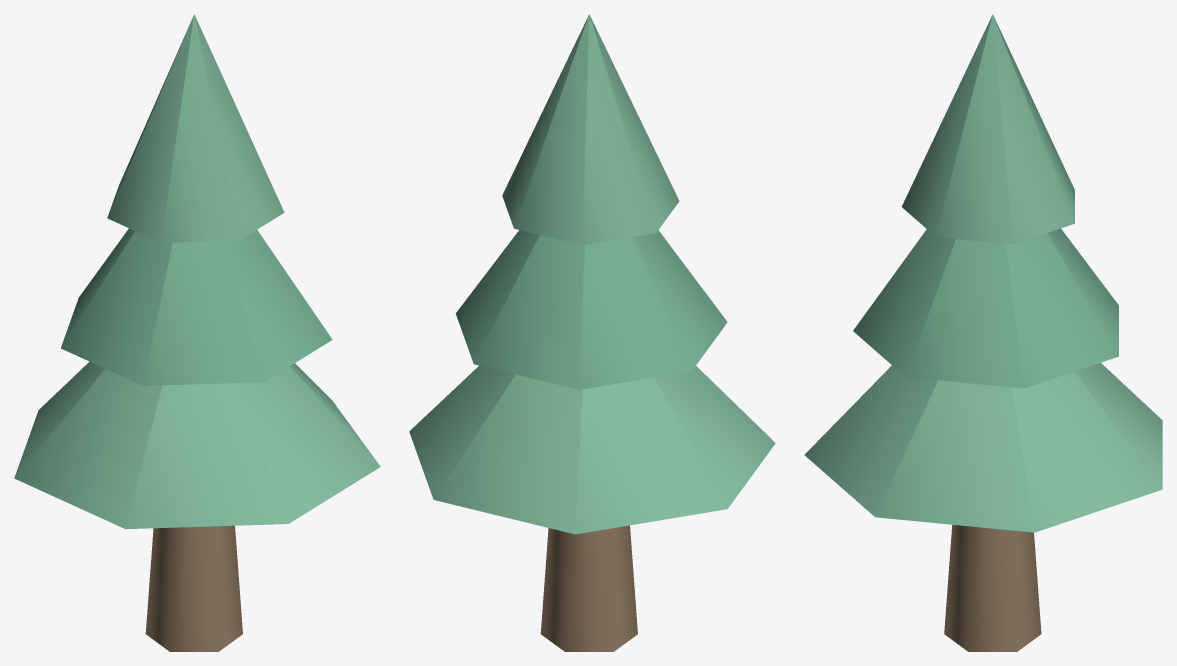
The model's file is tree_pine_0.glb.
3 views of the same model, side by side, from view 1: azimuth 30°, elevation 25°; view 2: azimuth 150°, elevation 25°; view 3: azimuth 270°, elevation 25° (orthographic).
Parts seen in each view (by area): view 1: tree_pine_0; view 2: tree_pine_0; view 3: tree_pine_0.
Boxes of the visible parts, bbox=[...] form: tree_pine_0: bbox=[14, 14, 380, 651]; tree_pine_0: bbox=[409, 14, 775, 651]; tree_pine_0: bbox=[804, 14, 1162, 651].
Bounding box in the file's own units: 1.21 × 2.25 × 1.18.
